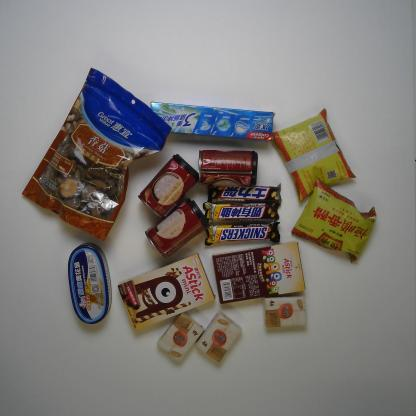Canned Food: (58, 243, 116, 330), (136, 151, 204, 215), (146, 197, 206, 260), (198, 150, 258, 188)
Chocolate: (201, 200, 282, 224), (208, 223, 287, 247), (206, 180, 278, 206)
Dessert: (112, 249, 221, 331), (212, 239, 318, 304)
Dried Food: (22, 66, 172, 244)
Personal Hygiene: (149, 98, 277, 148)
Seasoner: (286, 179, 378, 266), (271, 109, 356, 201)
Tissue: (195, 312, 246, 366), (261, 296, 317, 340), (158, 313, 202, 366)
